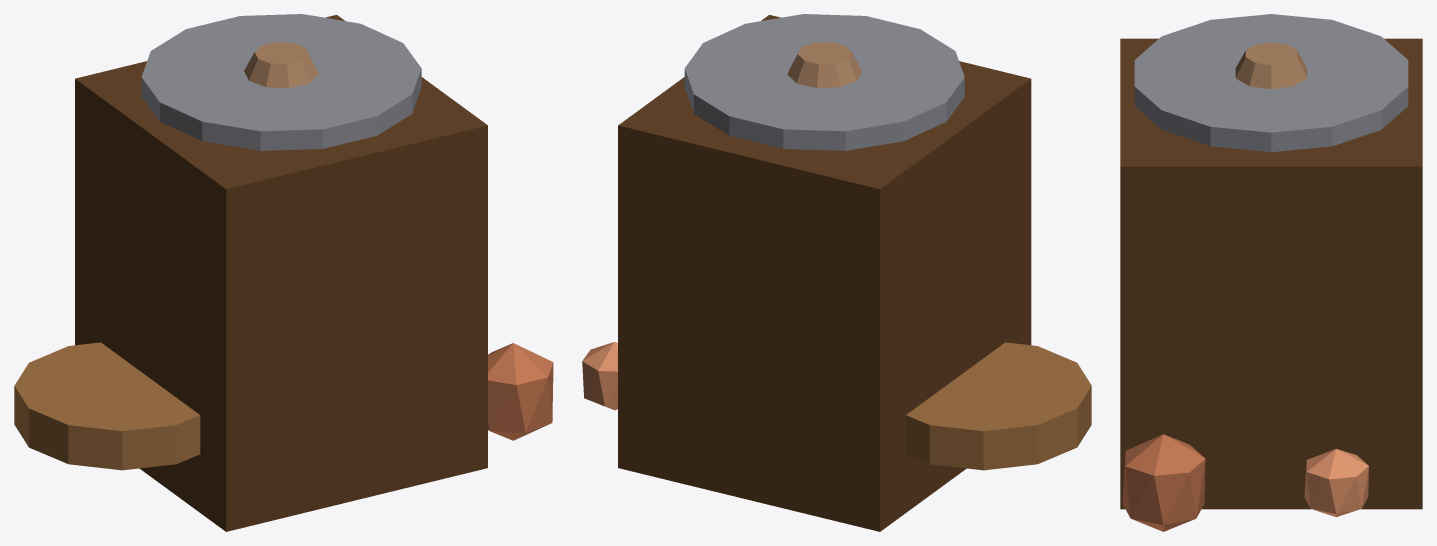
Rendered from wheel.glb.
The picture shows the model from 3 angles, left to right: view 1: azimuth 30°, elevation 25°; view 2: azimuth 150°, elevation 25°; view 3: azimuth 270°, elevation 25°; orthographic projection.
Parts seen in each view (by area): view 1: wheel; view 2: wheel; view 3: wheel.
Boxes of the visible parts, bbox=[...] form: wheel: bbox=[14, 14, 553, 531]; wheel: bbox=[582, 14, 1091, 531]; wheel: bbox=[1120, 14, 1422, 531].
Bounding box in the file's own units: 0.9979 × 0.8 × 0.56.
